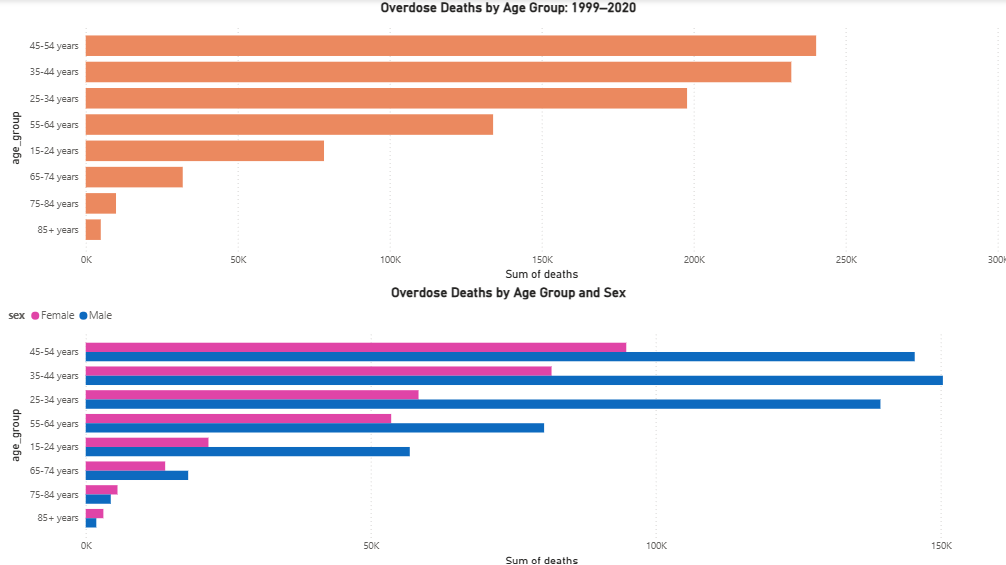

The page's visual inventory and layout, read from the dashboard file:
{"tool":"powerbi","page":{"name":"Demographics","canvas":[1280,720],"ordinal":3},"visuals":[{"type":"clusteredBarChart","title":"Overdose Deaths by Age Group: 1999–2020","fields":{"Category":["demographics.age_group"],"Y":["Sum(demographics.deaths)"]},"box":[9.4,0,1269.9,359.1],"z":0},{"type":"clusteredBarChart","title":"Overdose Deaths by Age Group and Sex","fields":{"Category":["demographics.age_group"],"Y":["Sum(demographics.deaths)"],"Series":["demographics.sex"]},"box":[9.4,359.1,1269.9,360.9],"z":1000}]}

Visuals, with their boxes in screenshot pixels (x1, y1, x2, y2), scaled from the page's 1280x720 canvas onto the 1006x565 screenshot:
"Overdose Deaths by Age Group: 1999–2020" clusteredBarChart: <box>7,0,1005,282</box>
"Overdose Deaths by Age Group and Sex" clusteredBarChart: <box>7,282,1005,564</box>
